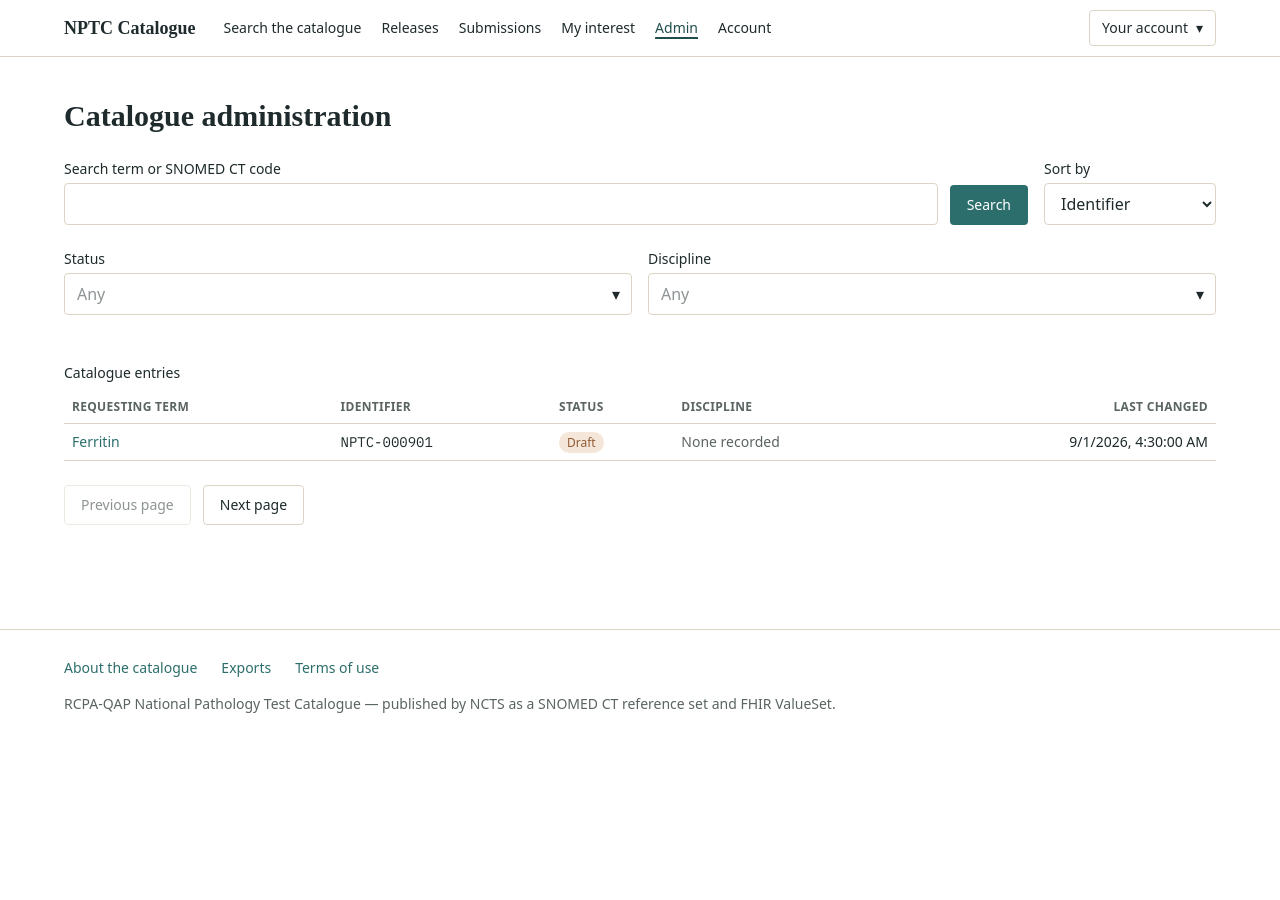
Test: AdminCatalogueListPage › paging › pushes the cursor into the URL and shows the next page's entries
Expected: the link "Ferritin" is shown, left=72, top=432, right=120, bottom=452
Click the button "Next page" at (253, 504), box left=203, top=484, right=304, bottom=524
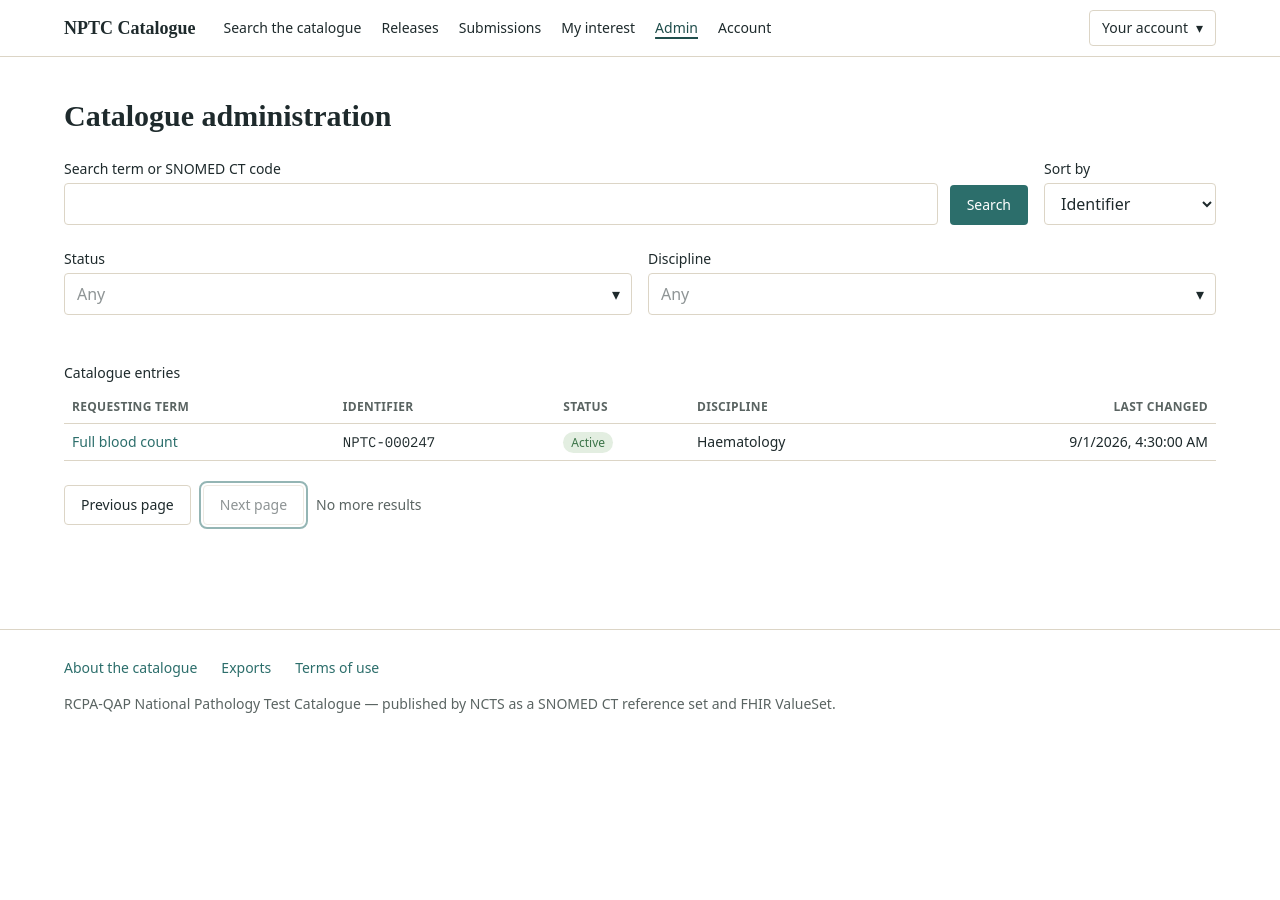
Now the link "Full blood count" is shown, box left=72, top=432, right=178, bottom=452
Now the link "Ferritin" is gone
